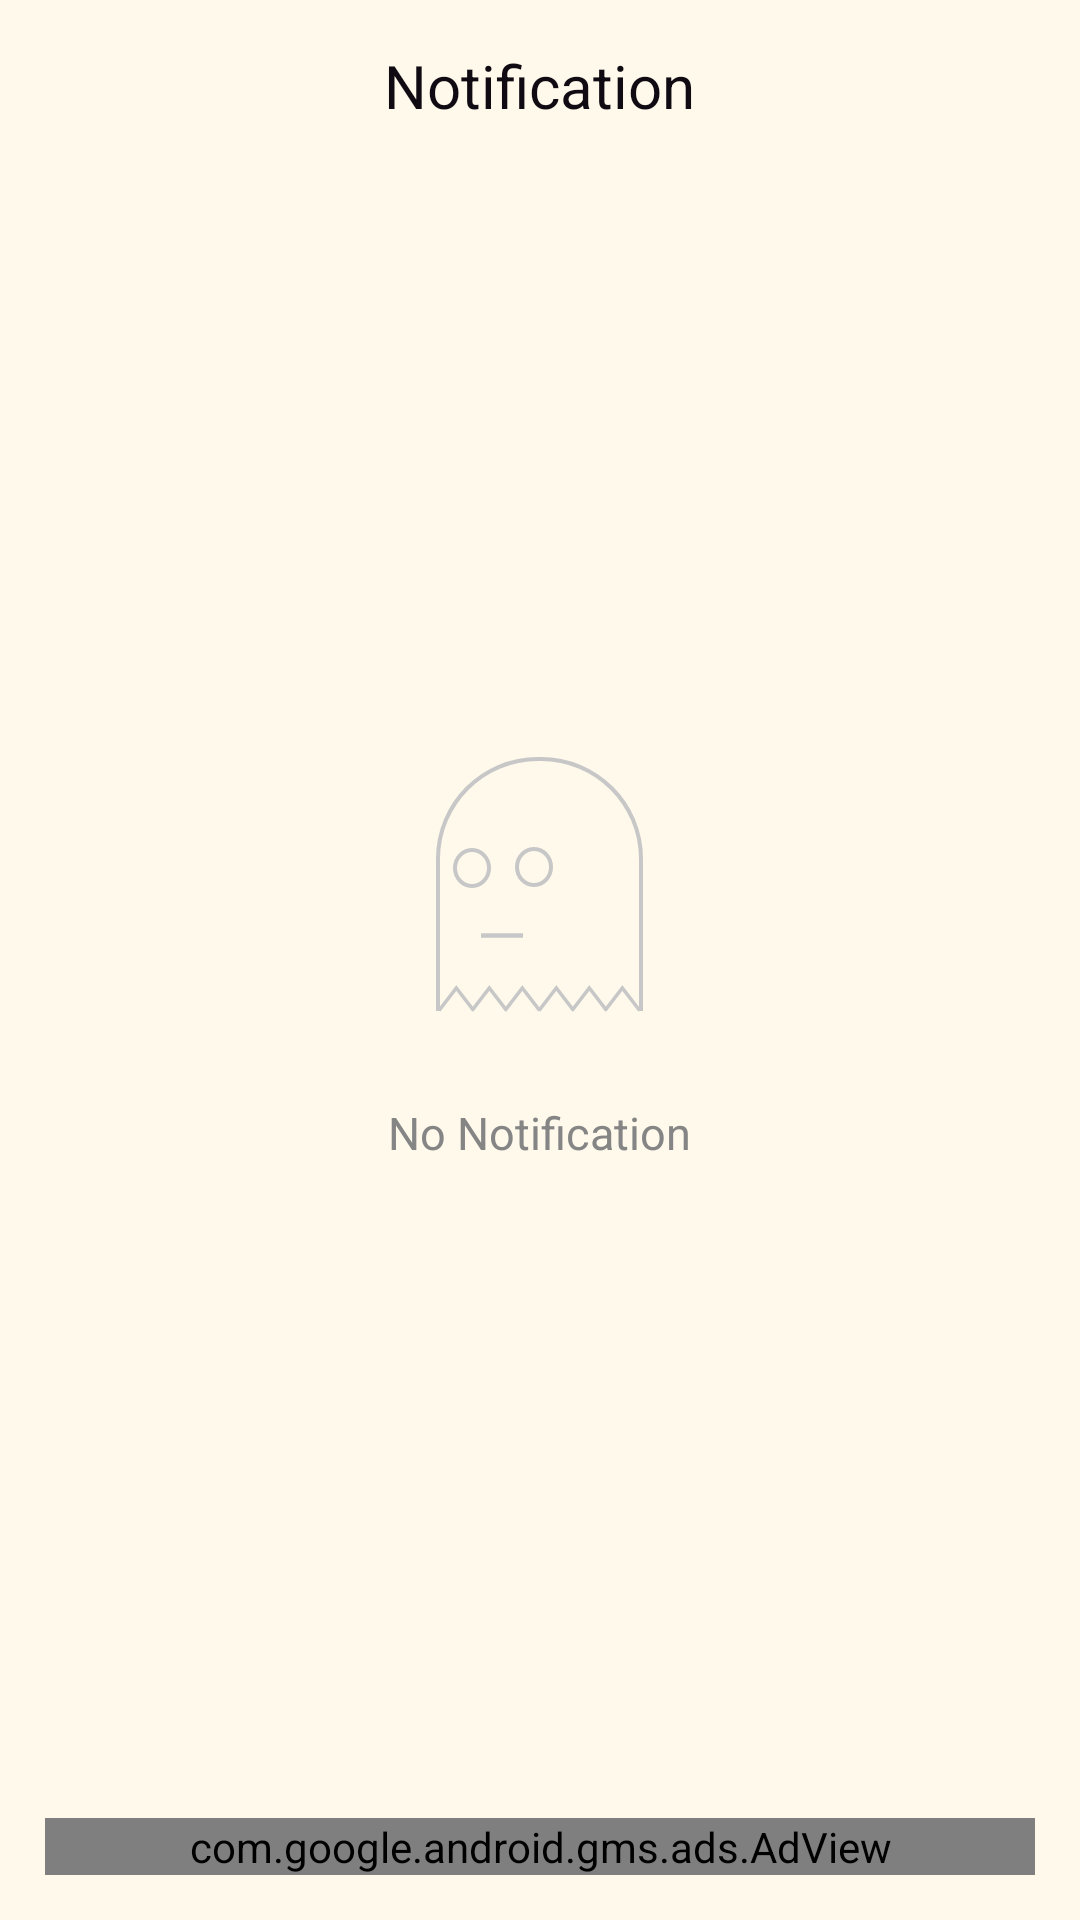

Icon click points for this 1080 x 1920 phone screenshot, format point (x, y):
noresult: point (539, 884)
